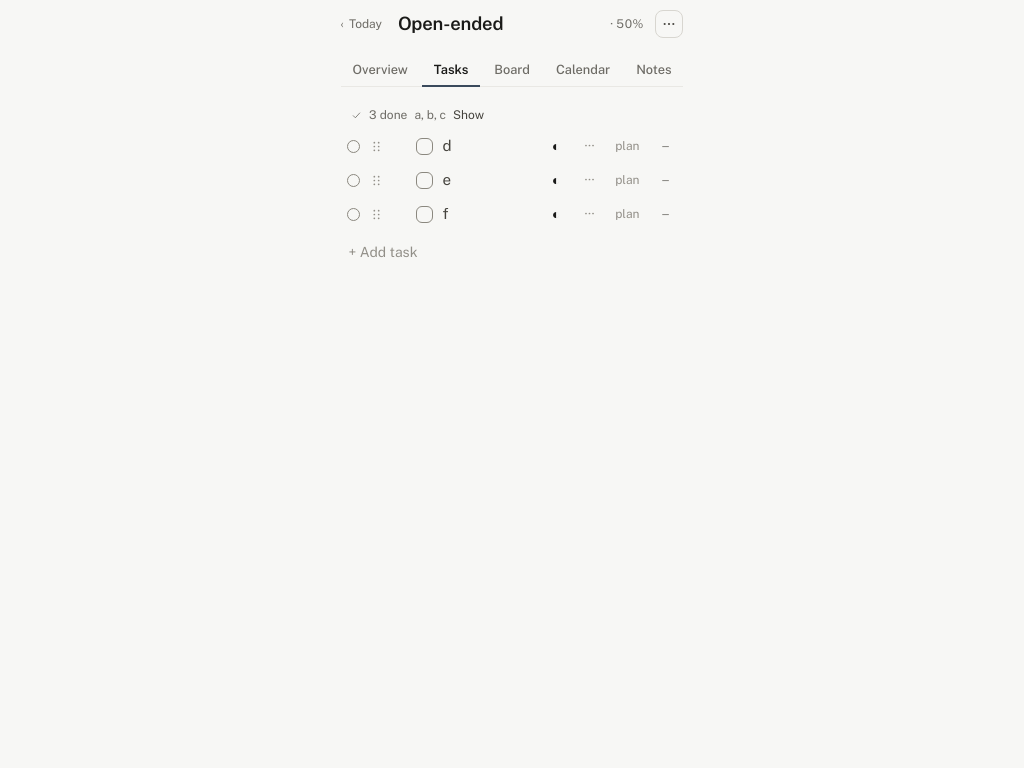
Scenario: a project with no schedule › reports velocity instead of "No project schedule"
The image size is (1024, 768).
Click the button named "Goal status and dates" at (627, 24), box x1=602 y1=10 x2=652 y2=38
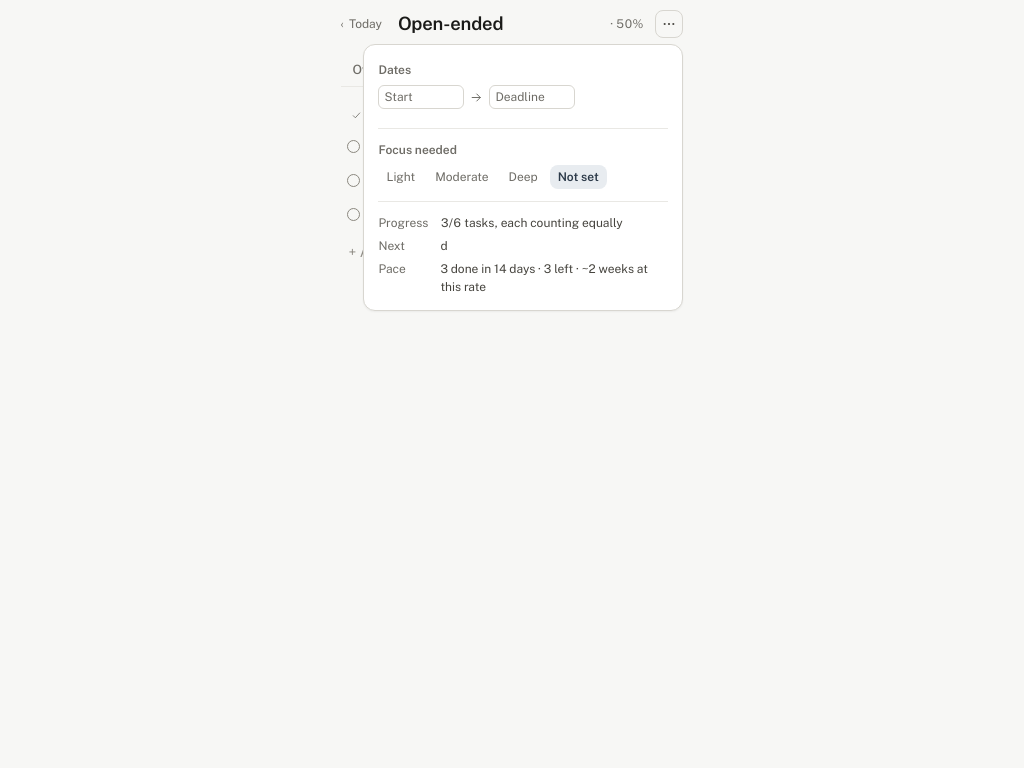
Expected: the text "3 done in 14 days · 3 left · ~2 weeks at this rate" is shown, x1=440 y1=260 x2=668 y2=296
